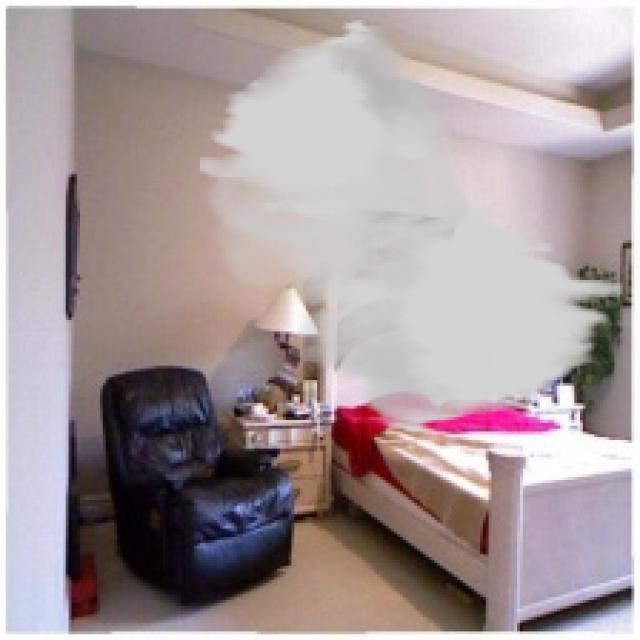smoke: (197, 17, 623, 434)
